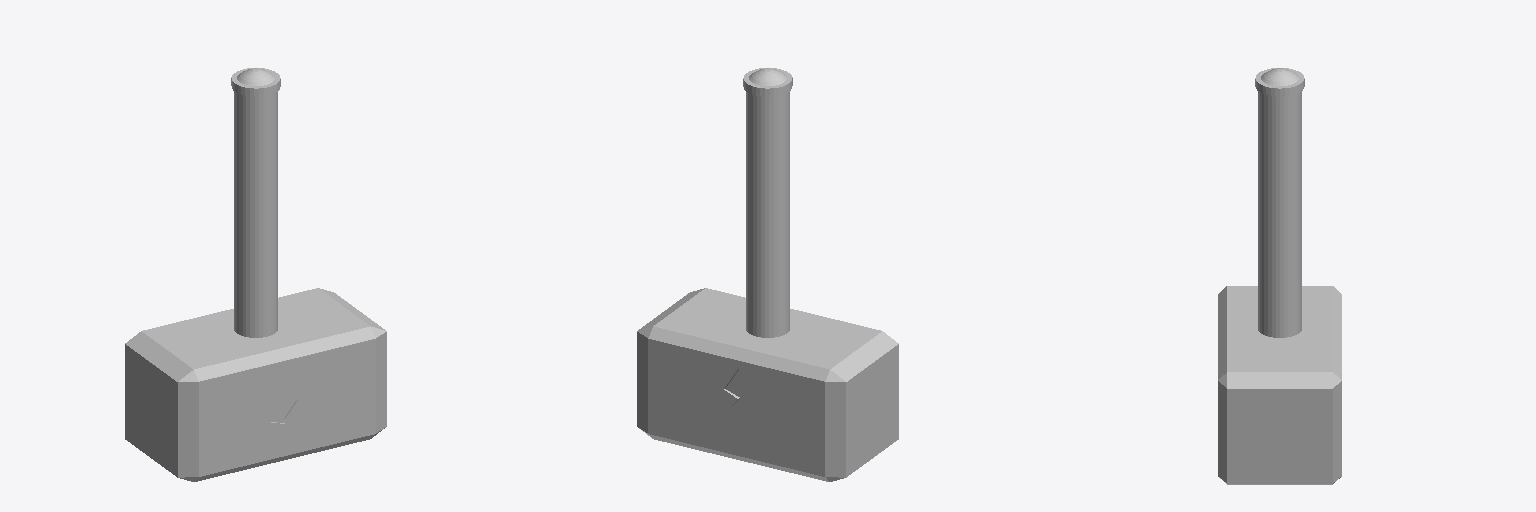
The model's file is Hammer.obj.
3 views of the same model, side by side, from view 1: azimuth 30°, elevation 25°; view 2: azimuth 150°, elevation 25°; view 3: azimuth 270°, elevation 25° (orthographic).
Parts seen in each view (by area): view 1: Cube; view 2: Cube; view 3: Cube.
Part boxes in pixels (x1,y1,x2,y2): Cube: (125, 68, 386, 481); Cube: (637, 68, 898, 481); Cube: (1218, 68, 1341, 484).
Size of the model in its own units: 2.32 by 3.92 by 1.19.